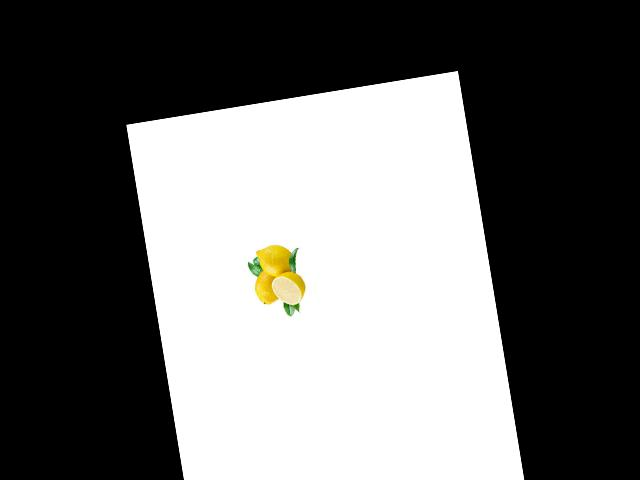lemon: (250, 239, 299, 281)
